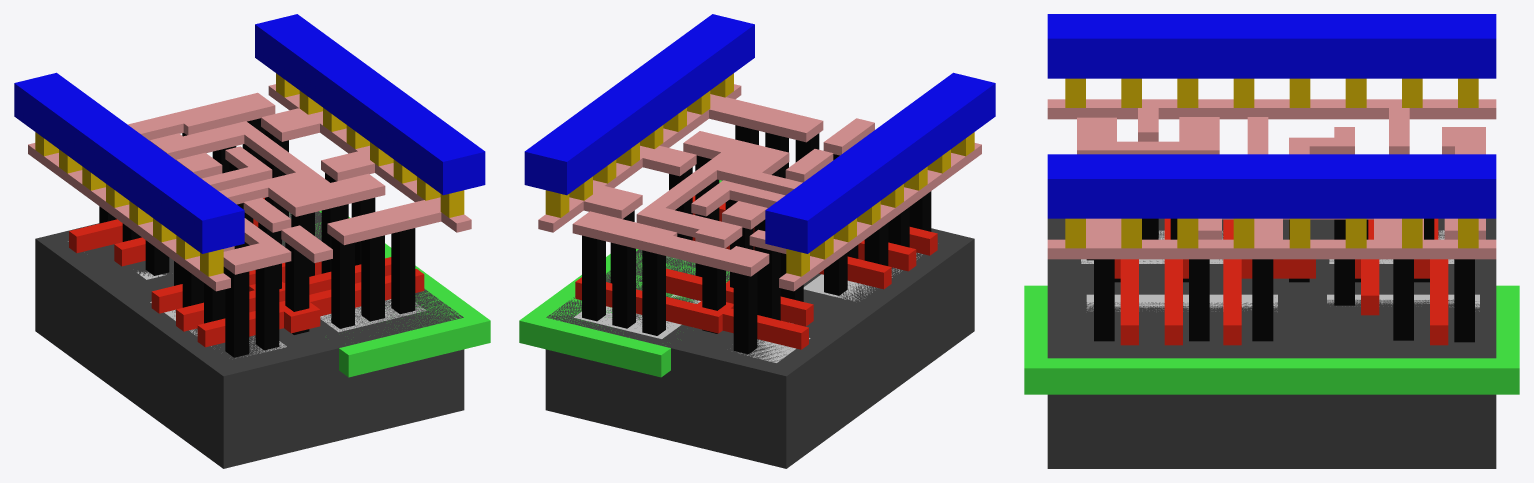
File: sky130_fd_sc_hd__o21ba_1.obj
3 renders of one model, left to right at view 1: azimuth 30°, elevation 25°; view 2: azimuth 150°, elevation 25°; view 3: azimuth 270°, elevation 25°, orthographic. The views are drawn at different scales.
Parts seen in each view (by area): view 1: subs, metal1, li, licon, poly, nwell, mcon, tap; view 2: subs, metal1, li, licon, poly, nwell, mcon, diff, tap; view 3: subs, metal1, li, nwell, licon, mcon, poly, tap, diff.
Part boxes in pixels (box(x1,y1,x2,y2)): subs: box(35, 211, 464, 468); metal1: box(14, 14, 485, 253); li: box(28, 84, 471, 291); licon: box(99, 118, 415, 357); poly: box(69, 198, 424, 347); nwell: box(289, 210, 490, 377); mcon: box(35, 73, 464, 276); tap: box(289, 213, 426, 332); subs: box(545, 228, 974, 468); metal1: box(524, 14, 995, 253); li: box(538, 84, 981, 291); licon: box(582, 125, 931, 354); poly: box(575, 195, 937, 349); nwell: box(519, 180, 729, 377); mcon: box(545, 73, 974, 276); diff: box(738, 253, 922, 362); tap: box(574, 256, 700, 338); subs: box(1047, 218, 1496, 468); metal1: box(1047, 14, 1496, 218); li: box(1047, 99, 1496, 259); nwell: box(1024, 285, 1519, 394); licon: box(1086, 218, 1474, 342); mcon: box(1065, 78, 1478, 248); poly: box(1114, 218, 1448, 345); tap: box(1086, 294, 1479, 311); diff: box(1081, 230, 1454, 263).
Bounding box in the file's own units: 3.2 × 2.74 × 4.06.
